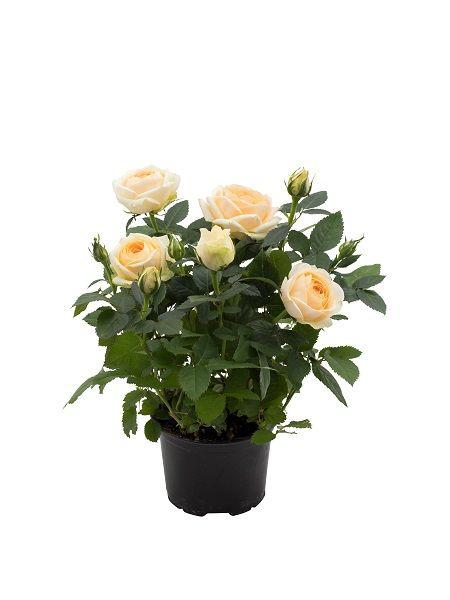Rose: (93, 227, 183, 291), (105, 153, 190, 218), (280, 257, 343, 334), (207, 178, 274, 240), (187, 219, 248, 277)
